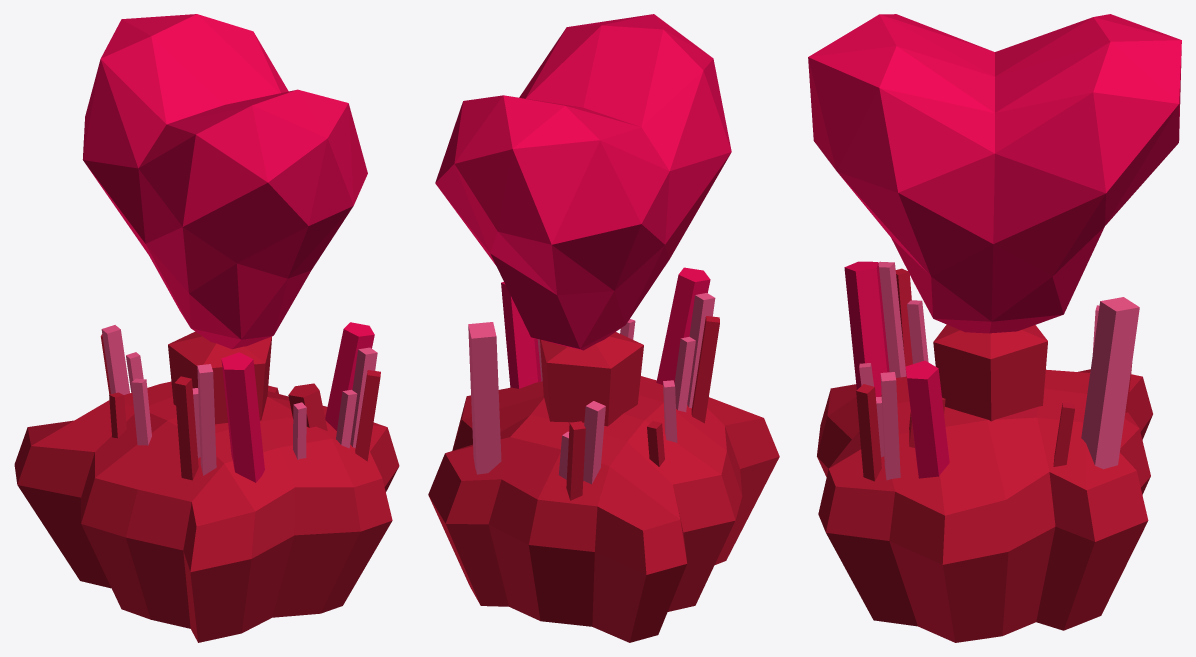
File: Mushroom_HeartCrystal_01.fbx
The picture shows the model from 3 angles, left to right: view 1: azimuth 30°, elevation 25°; view 2: azimuth 150°, elevation 25°; view 3: azimuth 270°, elevation 25°; orthographic projection. The views are drawn at different scales.
Parts seen in each view (by area): view 1: polySurface7; view 2: polySurface7; view 3: polySurface7.
Part boxes in pixels (<box>): polySurface7: <box>14,14,399,642</box>; polySurface7: <box>428,14,779,642</box>; polySurface7: <box>808,14,1181,642</box>.
Size of the model in its own units: 141 by 241 by 139.
